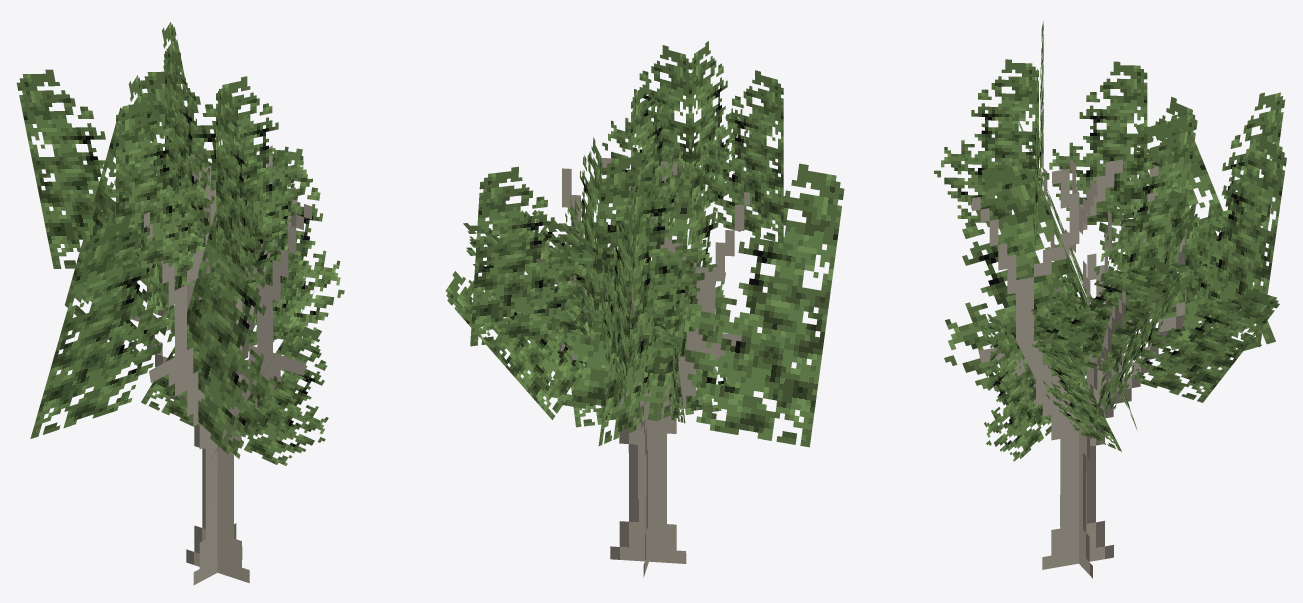
The model's file is uvmd-0099.glb.
3 views of the same model, side by side, from view 1: azimuth 30°, elevation 25°; view 2: azimuth 150°, elevation 25°; view 3: azimuth 270°, elevation 25° (orthographic). The views are drawn at different scales.
Parts seen in each view (by area): view 1: uvmd-0099; view 2: uvmd-0099; view 3: uvmd-0099.
Boxes of the visible parts, x1,y1,x2,y2 form: uvmd-0099: [16, 22, 344, 584]; uvmd-0099: [445, 41, 844, 577]; uvmd-0099: [934, 20, 1286, 578].
Bounding box in the file's own units: 234 × 304 × 231.
2 materials, 2 textured.
